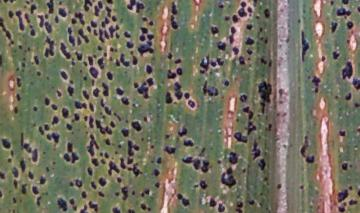tarspot: (255, 79, 272, 117), (1, 14, 17, 46), (23, 10, 37, 39), (299, 28, 310, 63), (220, 166, 236, 188), (86, 132, 99, 159), (94, 118, 113, 136), (136, 41, 156, 58), (43, 35, 56, 60), (201, 81, 219, 98), (58, 39, 71, 62), (340, 59, 354, 80), (126, 138, 141, 157), (126, 162, 145, 177), (299, 131, 309, 159), (137, 80, 150, 99), (15, 7, 24, 34), (251, 138, 262, 160), (232, 131, 248, 146), (129, 119, 144, 135), (334, 7, 354, 18), (119, 50, 131, 68), (106, 160, 120, 175), (336, 188, 349, 204), (56, 197, 69, 213), (73, 10, 86, 26), (78, 27, 89, 45), (199, 52, 209, 71), (227, 150, 239, 165), (242, 105, 254, 120), (120, 184, 130, 202), (66, 27, 75, 47), (169, 15, 179, 32), (165, 67, 177, 81), (246, 119, 257, 134), (169, 1, 180, 15), (200, 160, 211, 174), (73, 100, 87, 111), (192, 157, 201, 174), (350, 77, 360, 92), (101, 82, 111, 97), (228, 23, 235, 44), (1, 137, 13, 149), (238, 91, 249, 104), (215, 40, 228, 51), (57, 6, 68, 19), (163, 145, 177, 155), (88, 199, 98, 213), (62, 151, 72, 165), (60, 106, 70, 120), (311, 72, 320, 87), (51, 131, 60, 146), (43, 19, 52, 34), (244, 36, 255, 48), (173, 89, 184, 101), (97, 177, 109, 188), (125, 1, 137, 12), (178, 126, 188, 139), (182, 139, 195, 149), (89, 66, 99, 79), (108, 24, 116, 40), (330, 20, 339, 34), (257, 158, 266, 172), (163, 90, 172, 104), (73, 50, 84, 61), (82, 1, 93, 12), (180, 154, 192, 164), (74, 177, 84, 189), (120, 96, 130, 108), (66, 84, 74, 99), (112, 111, 122, 123), (135, 1, 145, 13), (36, 13, 44, 28), (31, 147, 38, 164), (144, 63, 153, 76), (39, 174, 48, 187), (71, 151, 80, 164), (59, 69, 68, 82), (15, 76, 23, 90), (97, 28, 104, 44), (46, 1, 54, 15), (331, 50, 341, 61), (237, 8, 247, 19), (210, 25, 220, 36), (215, 56, 225, 67), (181, 198, 191, 209), (120, 127, 130, 138), (125, 39, 136, 49), (343, 90, 352, 102), (199, 179, 208, 191), (85, 165, 94, 177), (19, 130, 25, 148), (81, 88, 90, 100), (88, 99, 95, 114), (340, 160, 348, 173), (42, 94, 50, 107), (104, 5, 112, 18), (337, 129, 347, 139), (122, 29, 132, 39), (231, 44, 240, 55), (175, 66, 184, 77), (186, 99, 195, 110), (152, 167, 161, 178), (26, 169, 35, 180), (90, 157, 99, 168), (97, 56, 104, 70), (217, 201, 225, 213), (35, 194, 43, 206), (19, 157, 25, 173), (23, 142, 31, 154), (88, 115, 94, 131), (66, 141, 73, 154), (119, 157, 126, 170), (305, 155, 315, 164), (348, 198, 358, 207), (262, 8, 271, 18), (237, 55, 246, 65), (173, 81, 183, 90), (79, 203, 88, 213), (126, 156, 135, 166), (64, 122, 74, 131), (146, 77, 155, 87), (92, 87, 101, 97), (103, 105, 112, 115), (31, 185, 39, 196), (32, 54, 40, 65), (11, 166, 19, 177), (73, 112, 81, 123), (139, 26, 150, 34), (266, 121, 273, 133), (75, 35, 82, 47), (103, 29, 110, 41), (236, 200, 245, 209), (245, 23, 254, 32), (174, 55, 183, 64), (79, 190, 88, 199), (115, 87, 124, 96), (346, 20, 354, 30), (258, 57, 268, 65), (111, 205, 121, 213), (68, 196, 76, 206), (37, 126, 45, 136), (54, 88, 62, 98), (35, 69, 43, 79), (89, 18, 97, 28), (7, 9, 15, 19), (44, 132, 51, 143), (106, 71, 113, 82), (131, 55, 138, 66), (111, 14, 118, 25), (238, 1, 247, 9), (246, 5, 254, 14), (231, 14, 239, 23), (209, 59, 217, 68), (165, 51, 173, 60), (10, 195, 18, 204), (12, 178, 18, 190), (52, 116, 60, 125), (103, 137, 111, 146), (51, 103, 59, 112), (209, 198, 216, 208), (15, 92, 22, 102), (109, 119, 116, 129), (70, 57, 77, 67), (126, 207, 137, 213), (20, 183, 26, 194), (104, 150, 110, 161), (87, 55, 93, 66), (71, 16, 77, 27), (30, 4, 36, 15), (94, 4, 99, 17), (153, 180, 161, 188), (147, 19, 155, 27), (138, 33, 146, 41), (147, 33, 155, 41), (176, 192, 183, 201), (156, 155, 163, 164), (140, 203, 147, 212), (144, 187, 151, 196), (90, 79, 97, 88), (19, 62, 28, 69), (99, 20, 106, 29), (90, 180, 96, 190), (1, 171, 7, 181), (44, 123, 50, 133), (98, 98, 104, 108), (114, 57, 120, 67), (54, 13, 59, 25), (353, 100, 360, 108), (337, 206, 345, 213), (275, 181, 282, 189), (223, 14, 231, 21), (222, 79, 230, 86), (97, 191, 105, 198), (132, 81, 139, 89), (141, 15, 148, 23), (103, 16, 110, 24), (298, 182, 304, 191), (267, 59, 273, 68), (184, 90, 190, 99), (200, 145, 206, 154), (68, 179, 74, 188), (116, 175, 122, 184), (13, 105, 19, 114), (86, 24, 92, 33), (233, 208, 243, 213), (115, 21, 120, 31), (352, 143, 359, 150), (248, 199, 255, 206), (71, 205, 78, 212), (6, 157, 13, 164), (31, 105, 38, 112), (100, 158, 107, 165), (345, 37, 351, 45), (320, 55, 326, 63), (313, 86, 319, 94), (218, 2, 224, 10), (198, 69, 206, 75), (142, 115, 148, 123), (92, 28, 98, 36), (115, 32, 121, 40), (108, 45, 114, 53), (2, 1, 18, 4), (41, 147, 47, 155), (257, 200, 263, 208), (341, 1, 350, 6), (95, 45, 104, 50), (1, 53, 4, 68), (25, 1, 34, 6), (45, 165, 50, 174), (263, 37, 269, 44), (216, 157, 222, 164), (114, 191, 120, 198), (9, 149, 15, 156), (98, 150, 104, 157), (112, 150, 119, 156), (117, 143, 123, 150), (124, 118, 130, 125), (26, 46, 32, 53), (149, 159, 156, 165), (356, 4, 360, 14), (140, 191, 145, 199), (131, 189, 136, 197), (357, 187, 360, 199), (17, 44, 23, 50), (21, 56, 27, 62), (98, 1, 102, 10), (258, 26, 263, 33), (164, 133, 171, 138), (193, 182, 198, 189), (147, 206, 152, 213), (83, 115, 88, 122), (93, 52, 98, 59), (102, 50, 107, 57), (347, 163, 353, 168), (296, 17, 301, 23), (263, 176, 269, 181), (241, 167, 246, 173), (255, 15, 260, 21), (1, 188, 4, 198), (108, 55, 113, 61), (14, 65, 20, 70), (44, 13, 49, 19), (333, 94, 339, 99), (11, 207, 16, 213), (52, 160, 58, 165), (106, 1, 113, 5), (114, 46, 118, 53), (357, 126, 360, 135), (329, 1, 334, 6), (150, 144, 155, 149), (258, 191, 263, 196), (347, 185, 353, 189), (260, 36, 264, 41), (252, 1, 258, 4)
